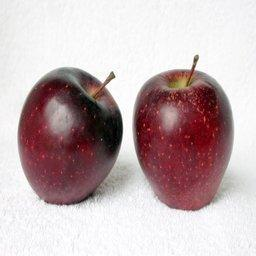apple: (14, 65, 123, 206), (135, 63, 234, 211)
